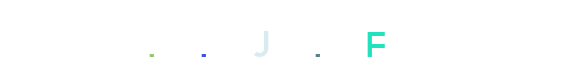0: (194, 0, 274, 80)
6: (164, 0, 244, 80), (247, 0, 327, 80)
F: (334, 0, 414, 80)
J: (237, 0, 317, 80)
